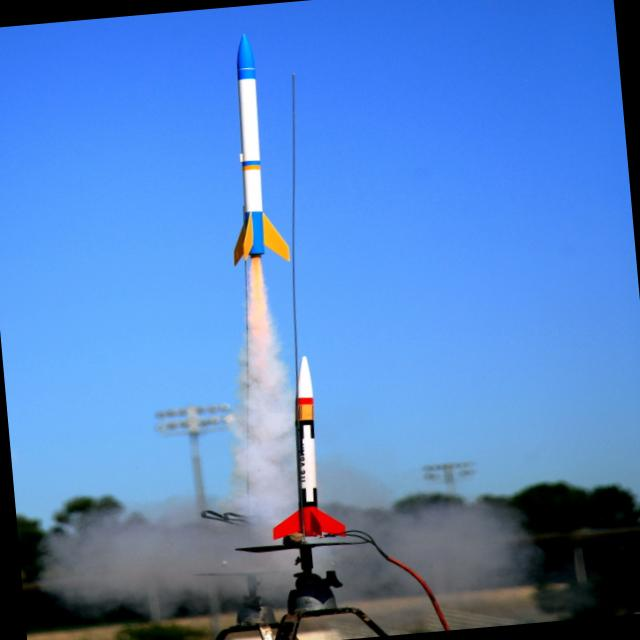rocket: (211, 25, 306, 409)
